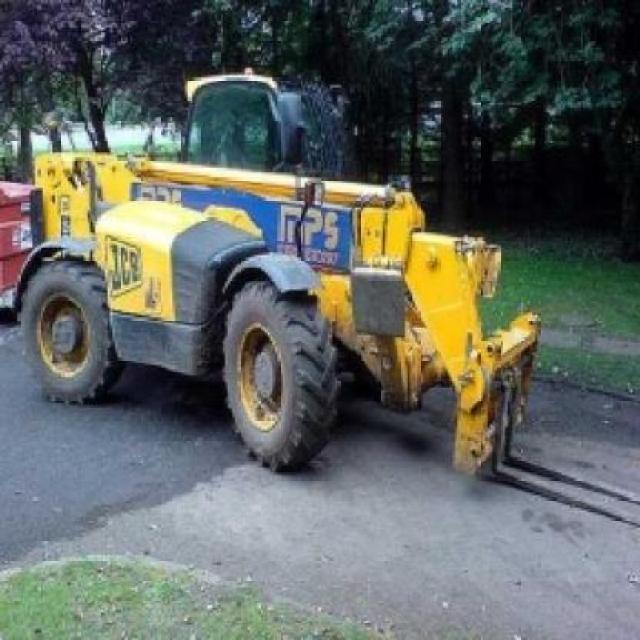forklift: (18, 46, 543, 506)
